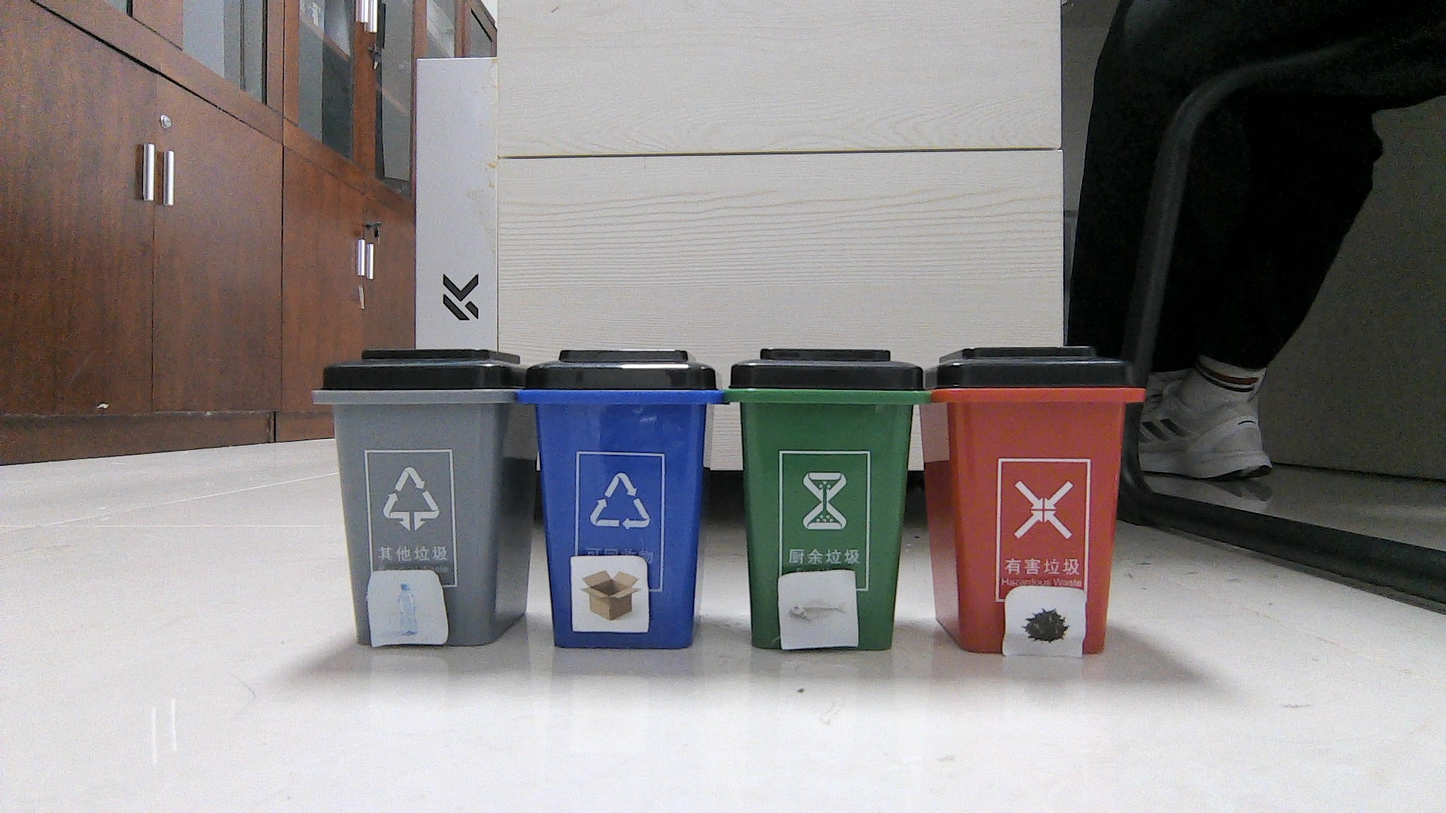food_trash: (783, 578, 852, 650), (1016, 596, 1081, 654)
recyclable_trash: (577, 562, 644, 628), (377, 575, 440, 642)
